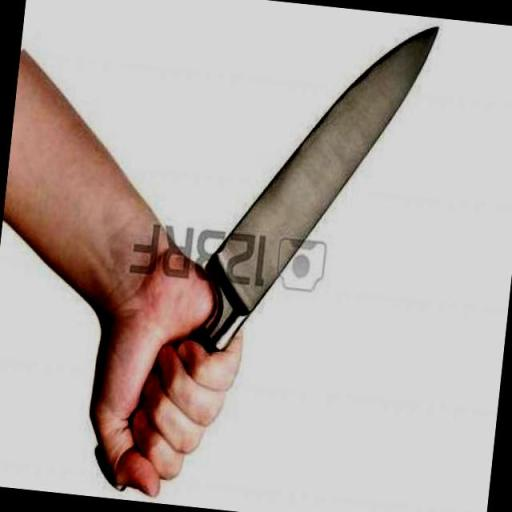knife: (128, 0, 445, 464)
